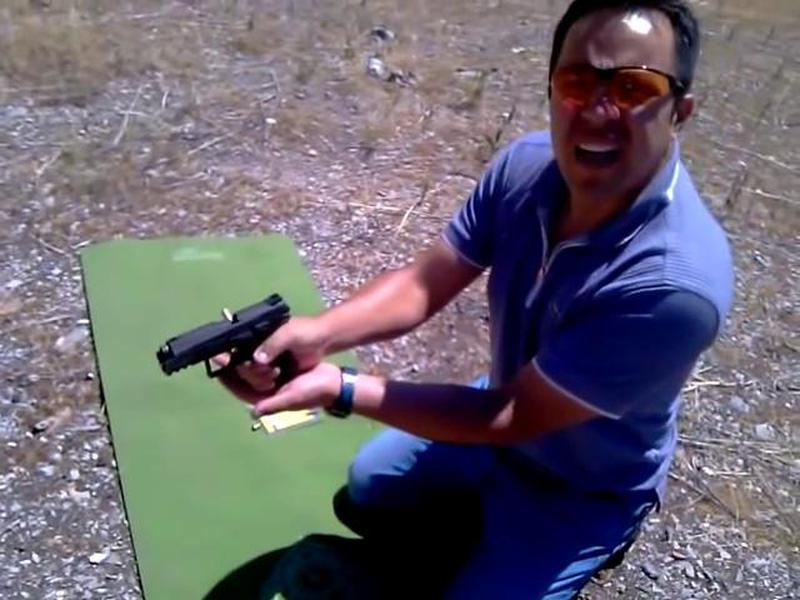Pistola: (143, 288, 306, 400)
